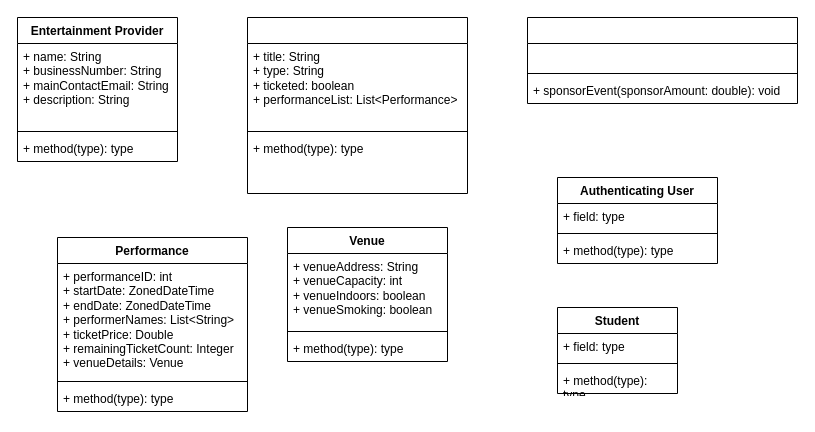
This 815x432 diagram has some shape labels left out. The shapes that lost their labels are listed below. From the top down, each one's box as (x1, y1, x2, y2) in pixels, then its label:
(526, 16, 798, 104): Admin/Staff
(246, 16, 468, 194): Event
